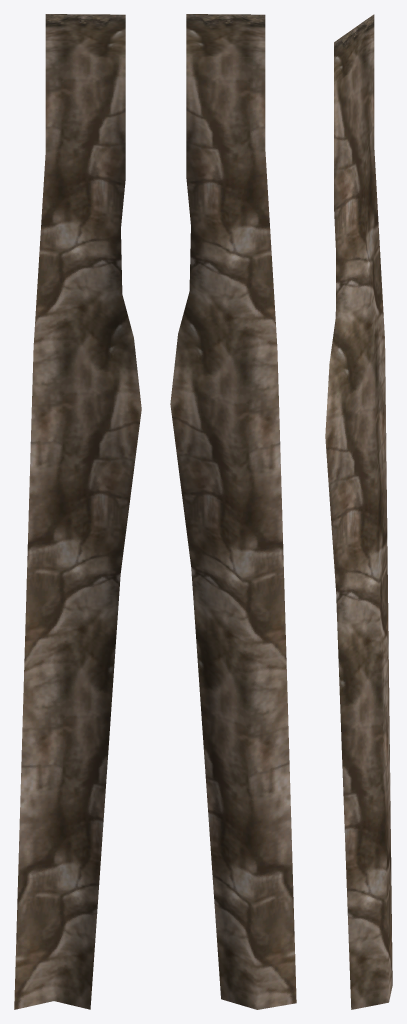
Rendered from OVERHILL_A_01_LINE81.fbx.
3 views of the same model, side by side, from view 1: azimuth 30°, elevation 25°; view 2: azimuth 210°, elevation 25°; view 3: azimuth 270°, elevation 25° (orthographic).
Visible parts, largest first — view 1: OVERHILL_A_01_LINE81; view 2: OVERHILL_A_01_LINE81; view 3: OVERHILL_A_01_LINE81.
Part boxes in pixels (x1=…): OVERHILL_A_01_LINE81: x1=14, y1=14, x2=141, y2=1009; OVERHILL_A_01_LINE81: x1=170, y1=14, x2=296, y2=1009; OVERHILL_A_01_LINE81: x1=325, y1=14, x2=392, y2=1009.
Size of the model in its own units: 20569 by 210090 by 13056.
Materials: 2 (2 with a texture image).
